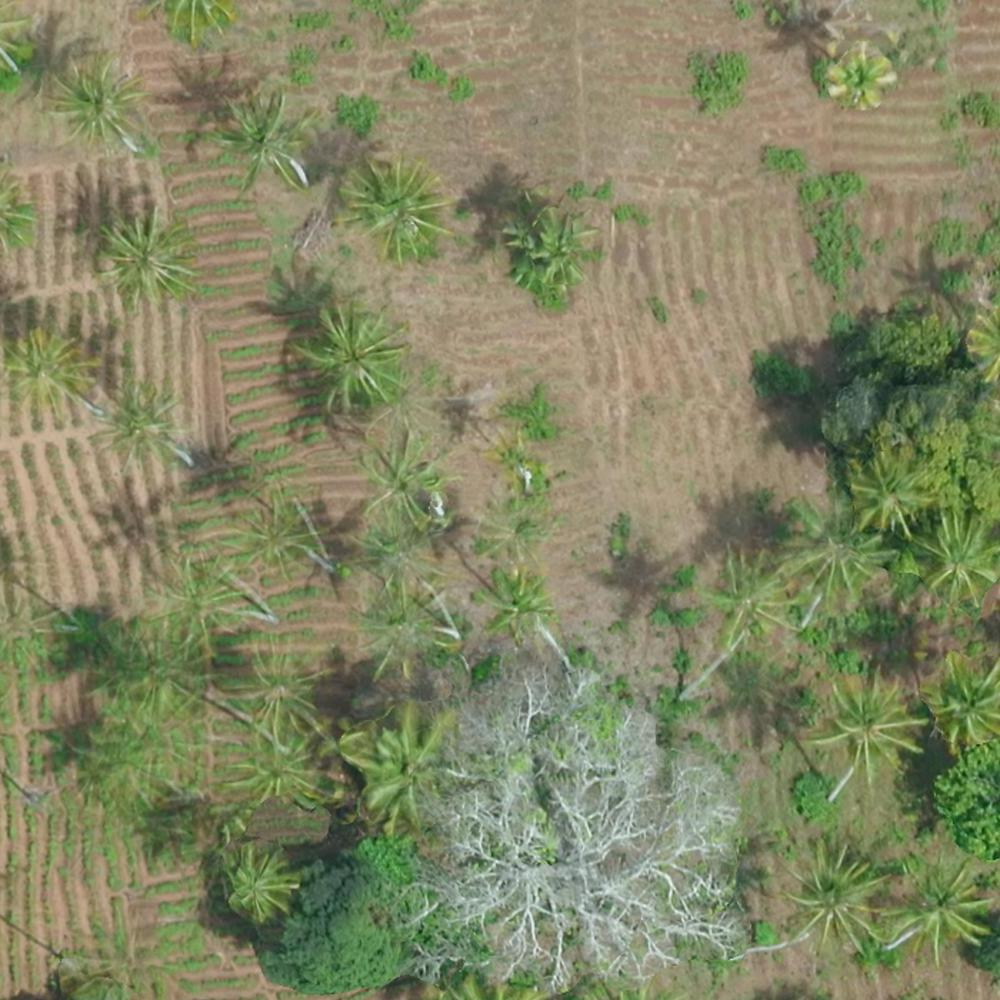Palm: (344, 706, 448, 826), (808, 678, 924, 777), (776, 496, 890, 596), (779, 844, 884, 948), (296, 308, 405, 407), (696, 550, 802, 651), (348, 157, 447, 255), (893, 855, 990, 955), (98, 213, 194, 306), (215, 93, 308, 185), (910, 515, 995, 607), (3, 324, 87, 414), (92, 378, 184, 460), (54, 58, 137, 141), (924, 659, 1000, 745), (232, 739, 322, 810), (849, 454, 928, 527), (225, 846, 296, 923), (477, 566, 555, 635), (825, 41, 896, 104)
